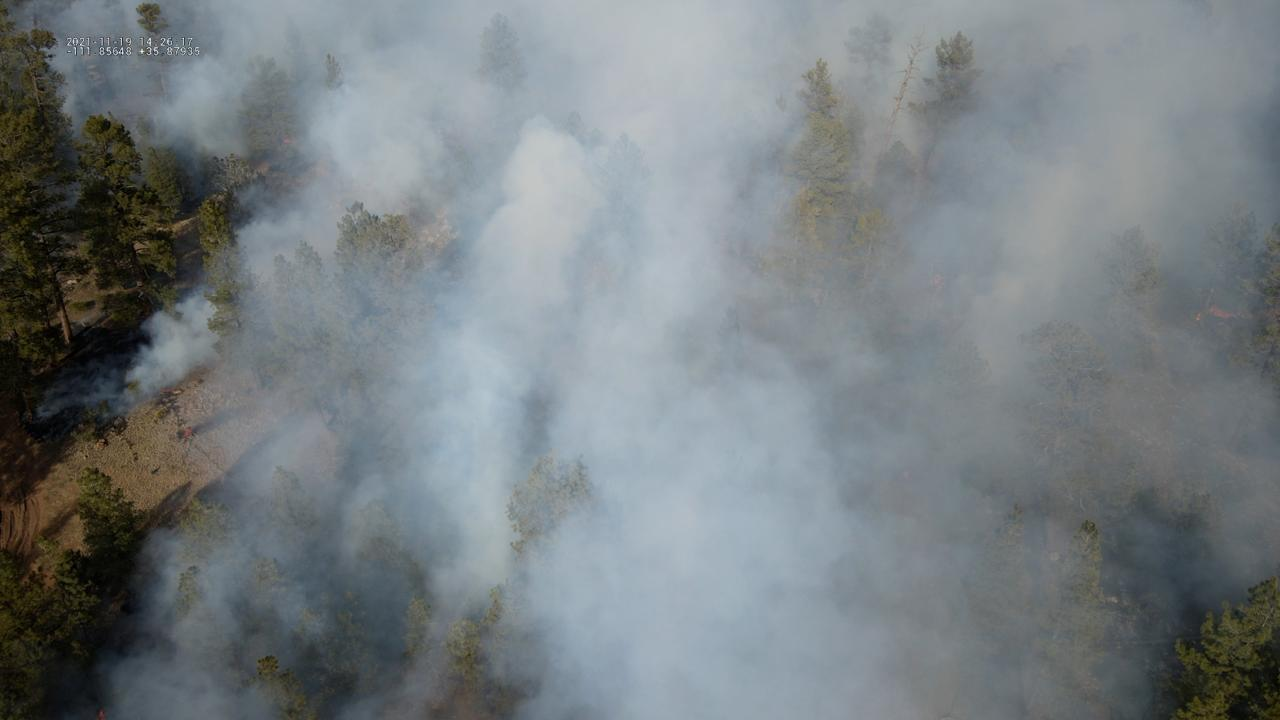fire: (1194, 305, 1234, 321), (182, 428, 192, 437)
smoke: (0, 0, 1280, 720)
